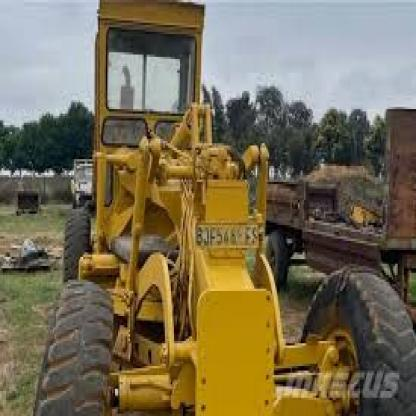bull_dozer/loader/grader: (34, 7, 414, 414)
